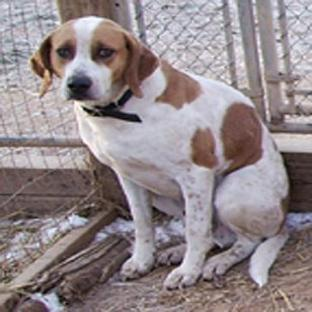Animal: (30, 16, 289, 289)
